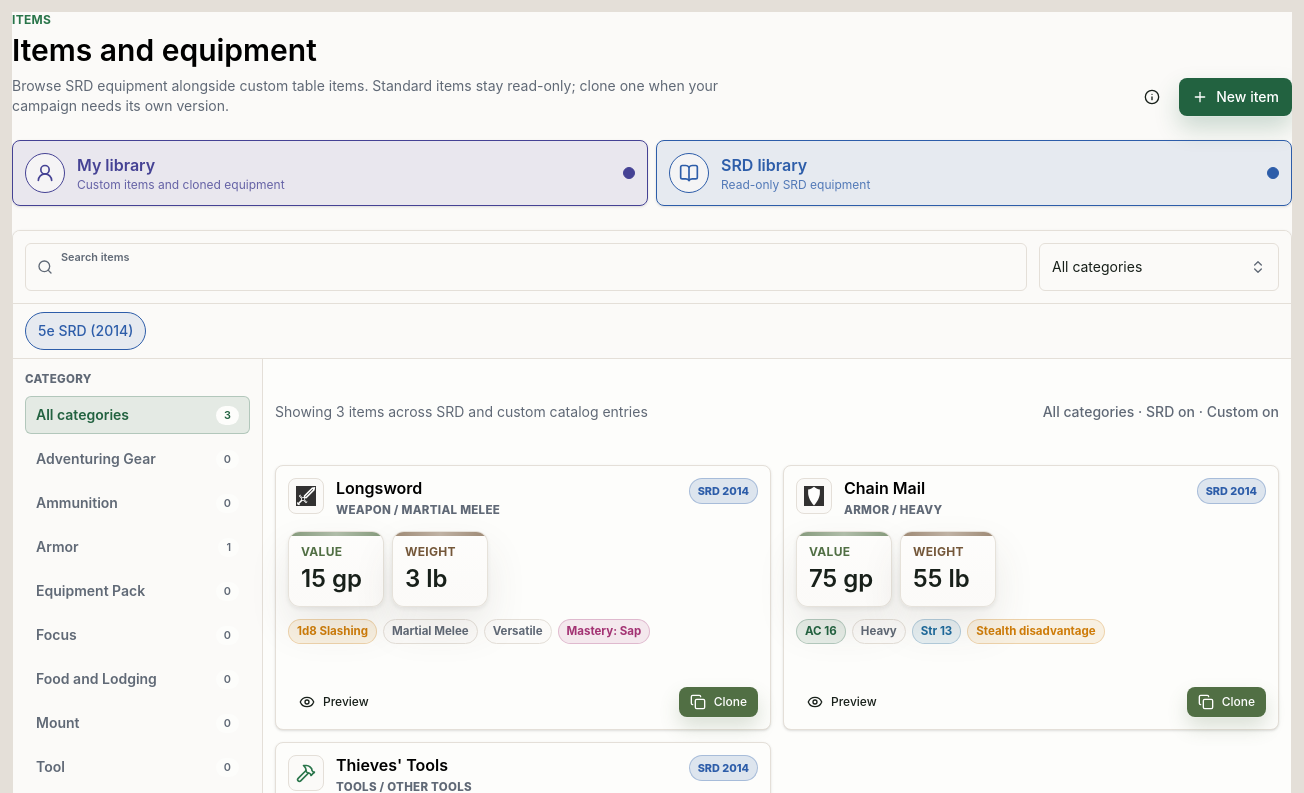
Test case: ItemsPage › renders subtype catalog details and searches enriched item fields
This screenshot has width=1304, height=793.
Expected: the text "1d8 Slashing" is shown, top-left (297, 624), bottom-right (368, 639)
Expected: the text "Mastery: Sap" is shown, top-left (566, 624), bottom-right (641, 639)
In the field with placeholder "Search items": (526, 267) top-left (25, 243), bottom-right (1027, 291), type "sap"
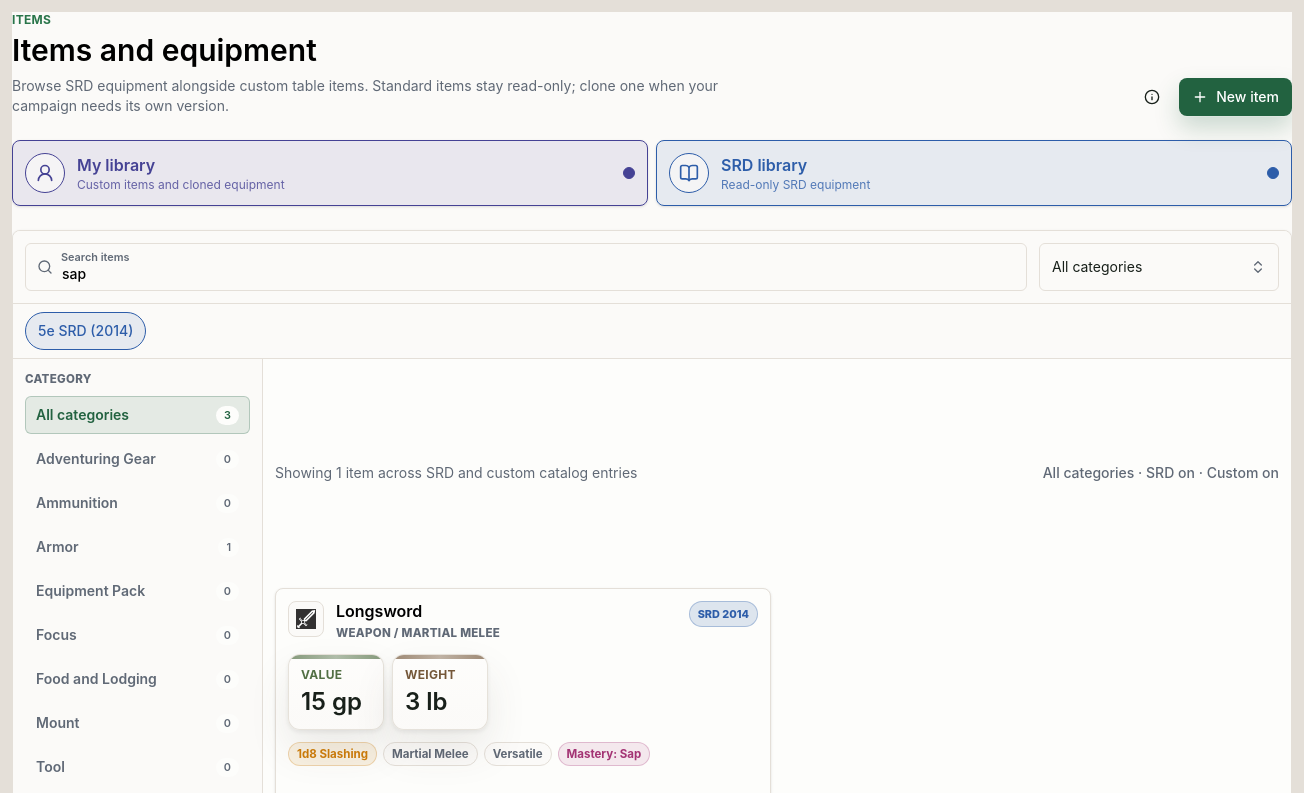
Expected: the heading "Longsword" is shown, top-left (336, 601), bottom-right (422, 621)
Expected: the heading "Chain Mail" is gone
Expected: the heading "Thieves' Tools" is gone
